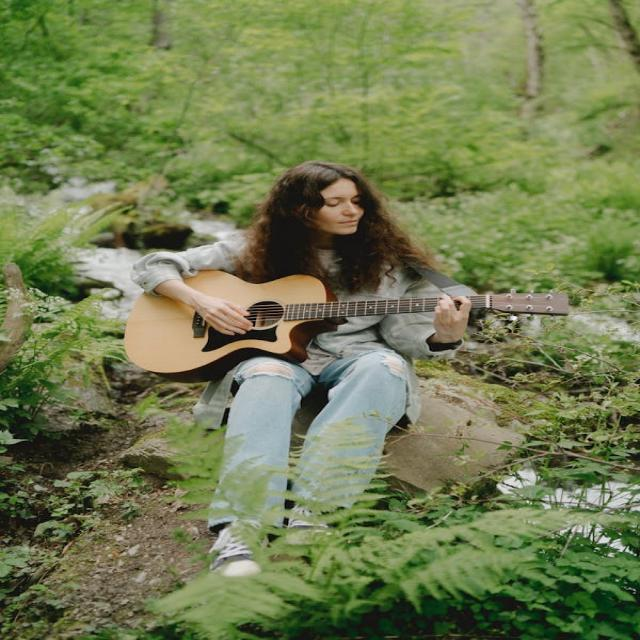Real human 2: (141, 160, 478, 590)
